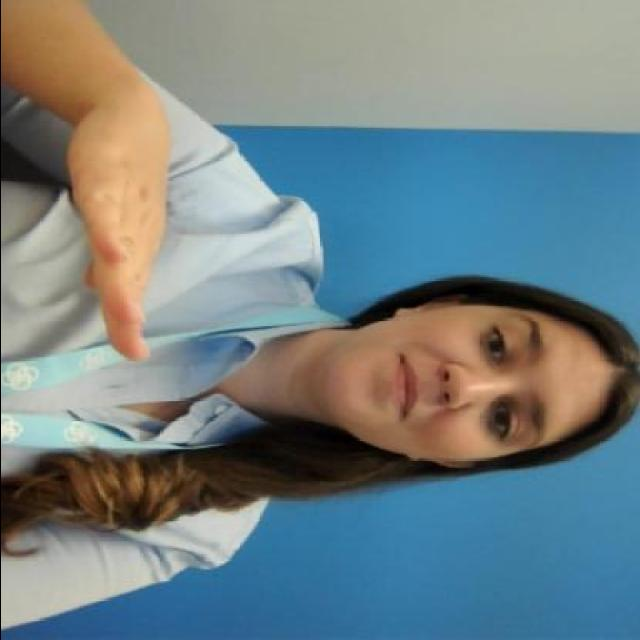Paper: (60, 94, 183, 371)
